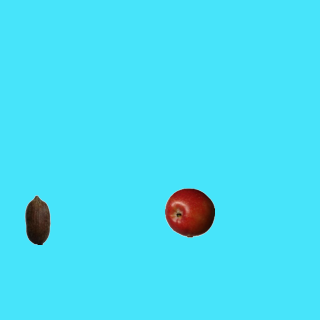Apple Braeburn: (164, 187, 214, 237)
Nut Pecan: (12, 194, 62, 244)
